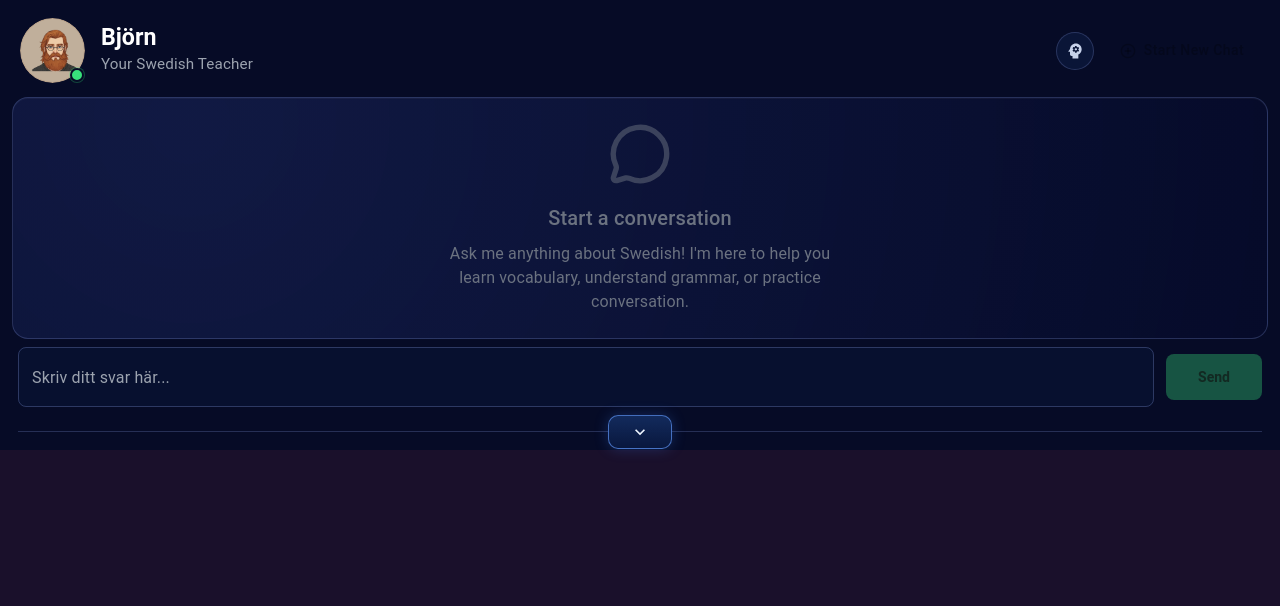
Test: ChatView › collapses teacher chat controls and restores the show-toggle label
Click the button named "show chat controls": (640, 432) [608,415,672,449]
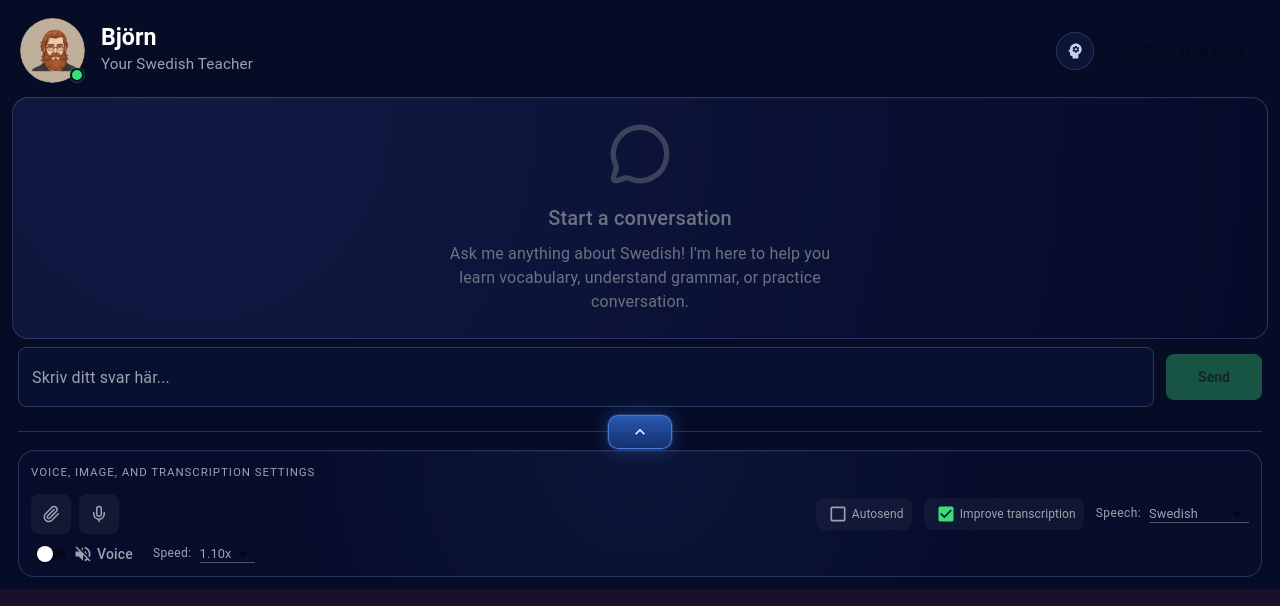
Now the button named "hide chat controls" is expanded
Click the button named "hide chat controls": (640, 432) [608,415,672,449]
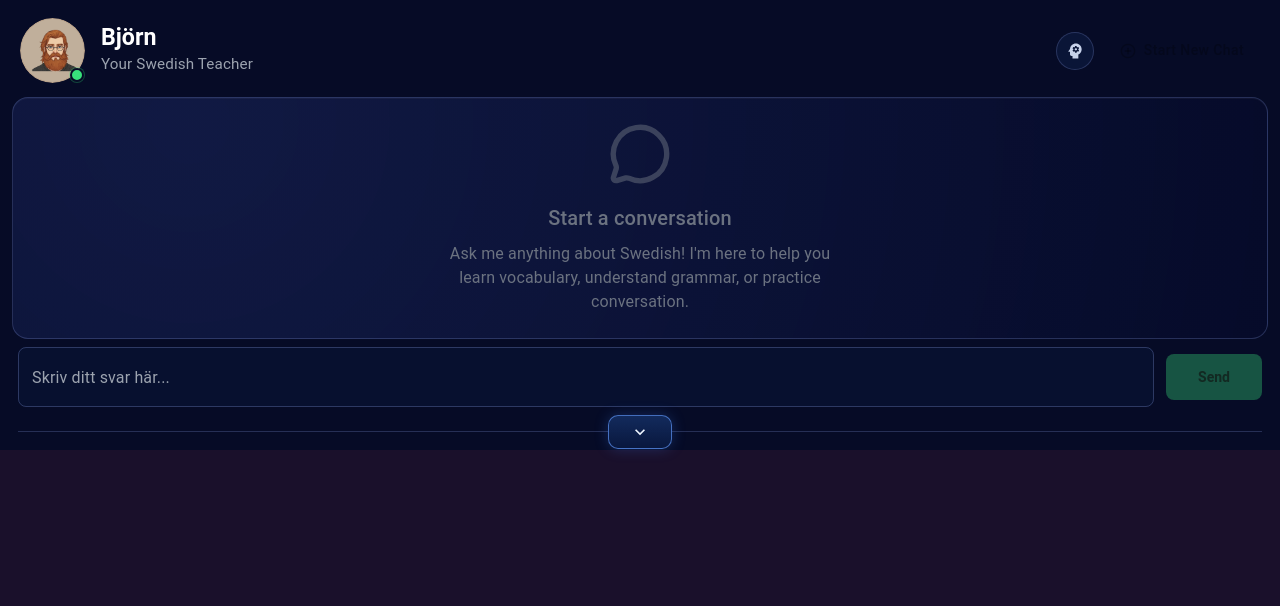
Now the button named "show chat controls" is collapsed, box [608,415,672,449]
Now the element with id "teacher-chat-controls-panel" is gone
